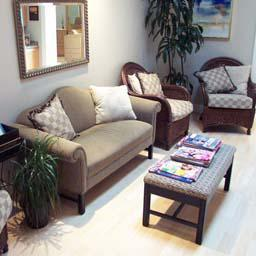Matera: (146, 4, 199, 91), (16, 153, 59, 225)
